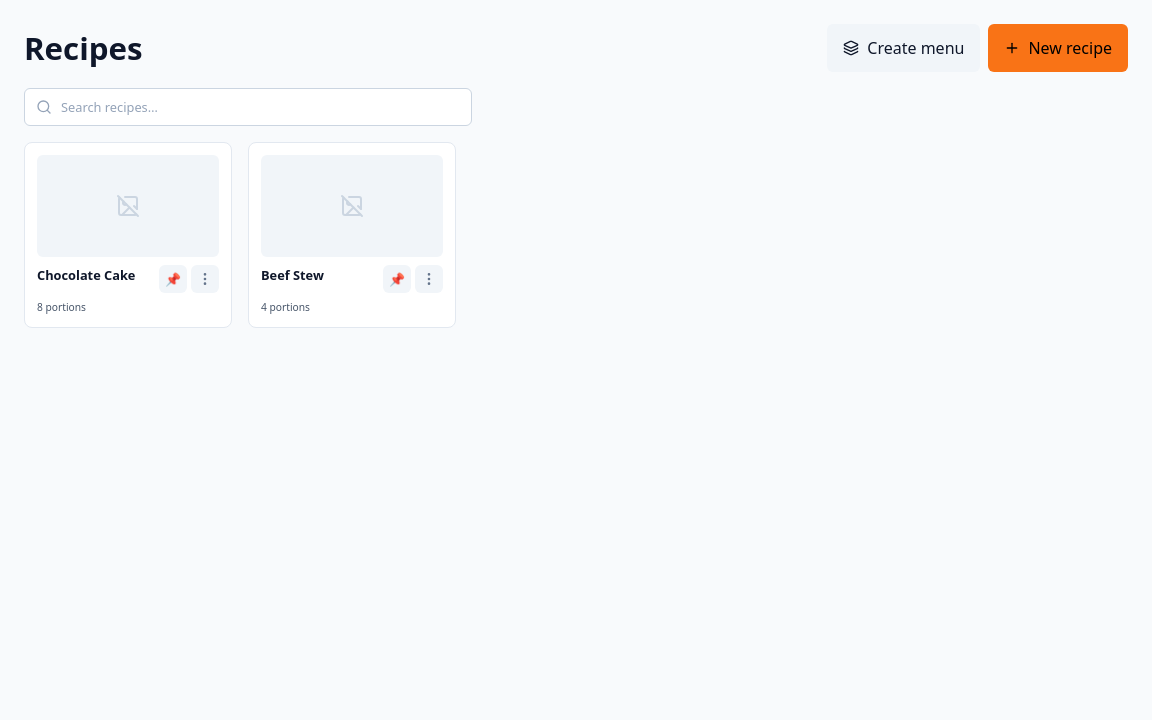
Test: RecipesLibrary › selecting recipes and confirming creates a menu, stays on /recipes, and activates the new menu chip
expect the link "Beef Stew" is shown: met, box x1=261 y1=266 x2=324 y2=284
Click the button with test id "recipes-create-menu-button". click: (904, 48)
box: x1=827 y1=24 x2=980 y2=72
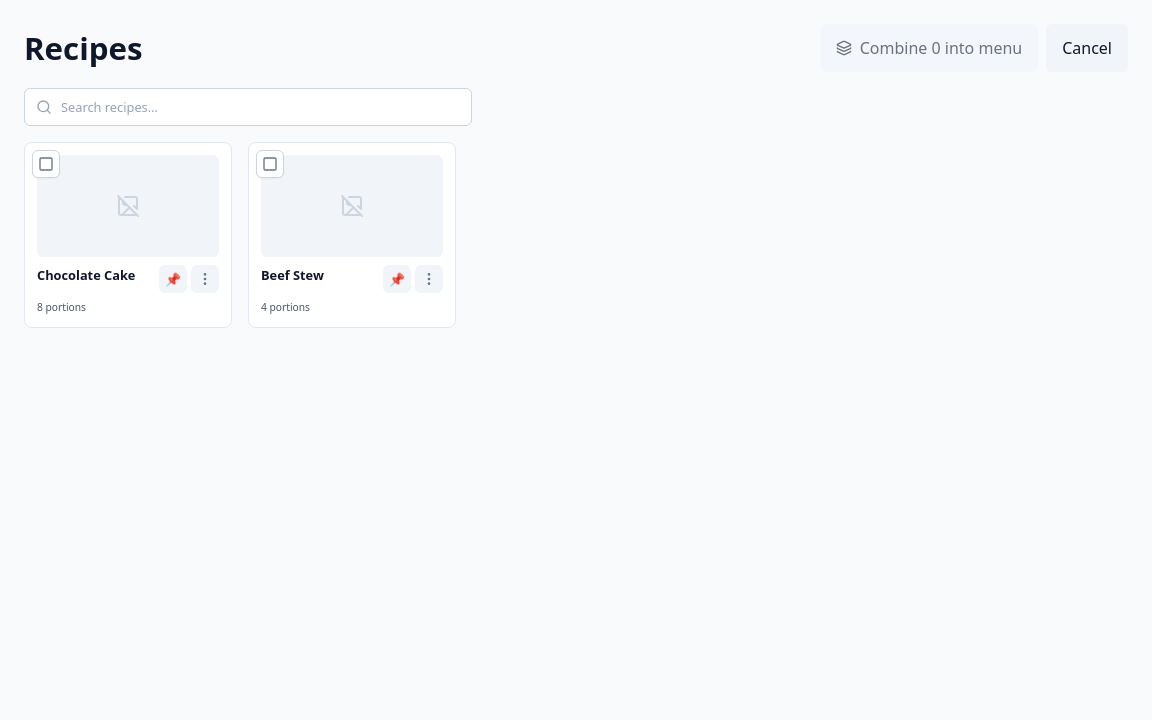
Click the button with test id "recipes-select-checkbox-r_test_001". click: (270, 164)
box: x1=256 y1=150 x2=284 y2=178
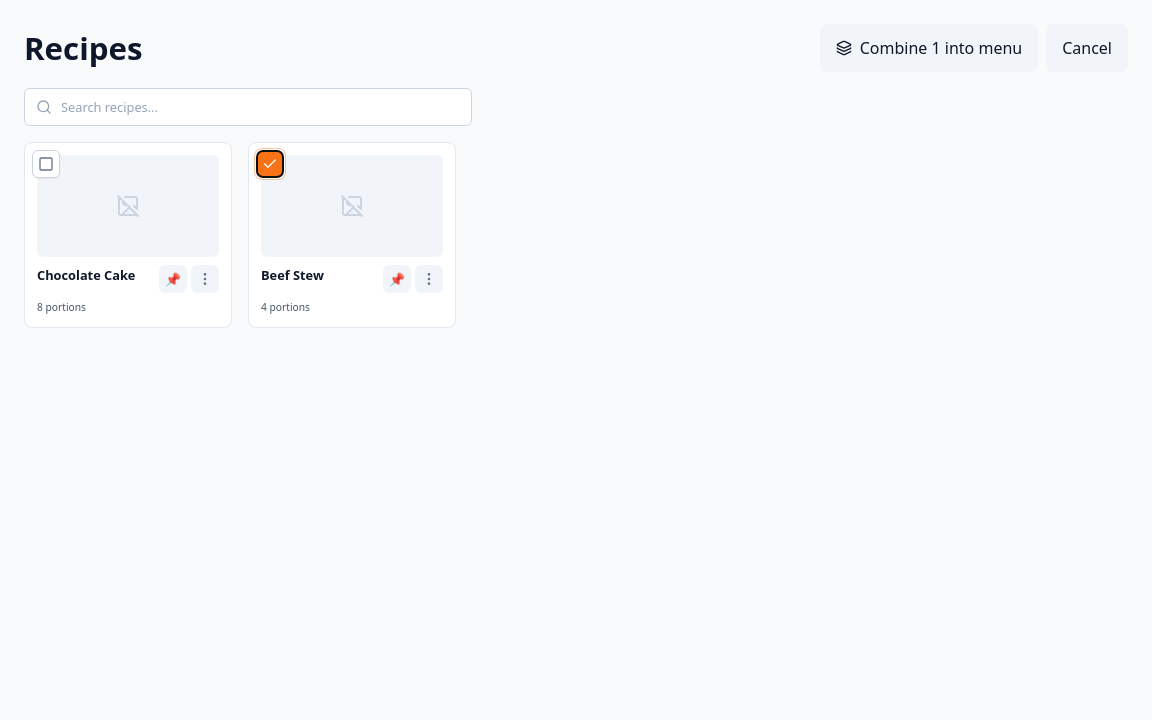
Click the button with test id "recipes-select-checkbox-r_test_002". click: (46, 164)
box: x1=32 y1=150 x2=60 y2=178
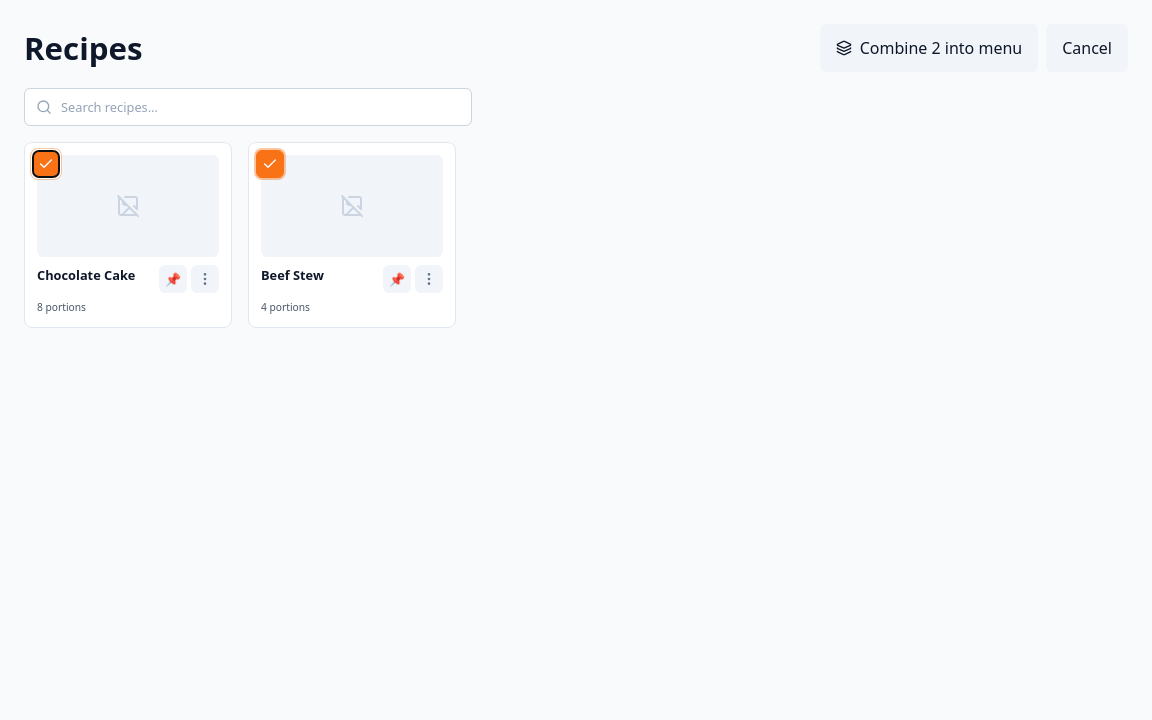
expect the button with test id "recipes-combine-button" is enabled: met
expect the button with test id "recipes-combine-button" reads "Combine 2 into menu": met
Click the button with test id "recipes-combine-button". click: (929, 48)
box: x1=820 y1=24 x2=1038 y2=72
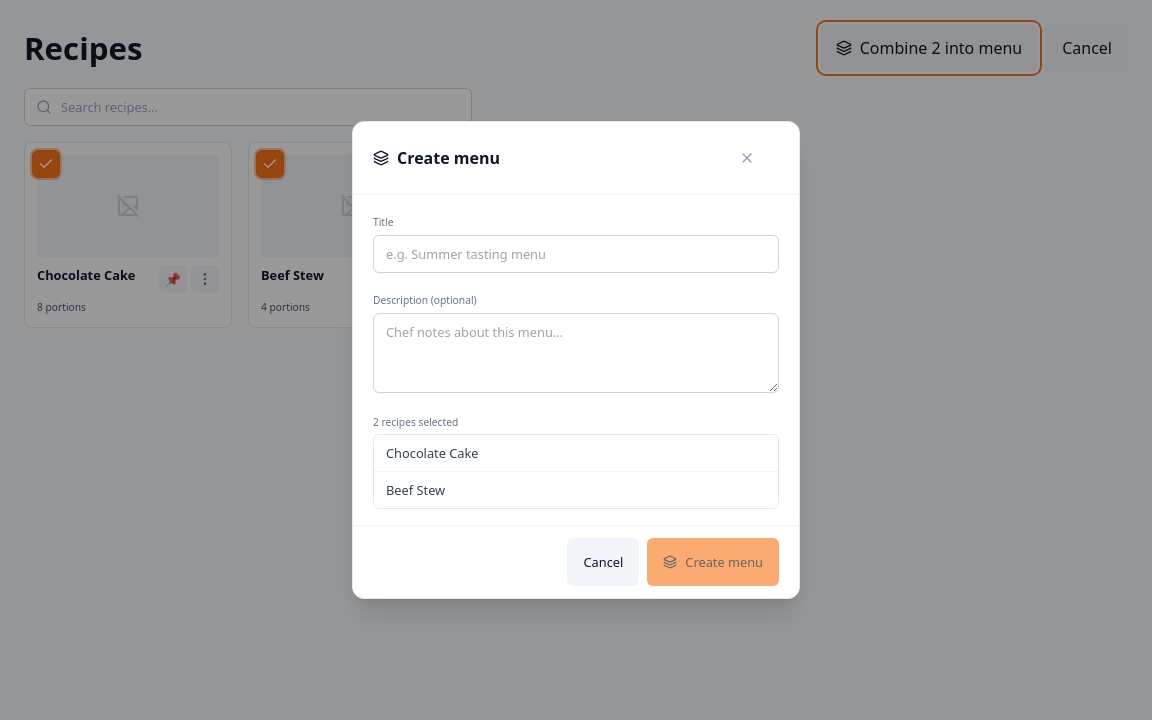
Type "Saturday Service" into the field with test id "create-menu-title-input". click: (576, 254)
box: x1=373 y1=235 x2=779 y2=273
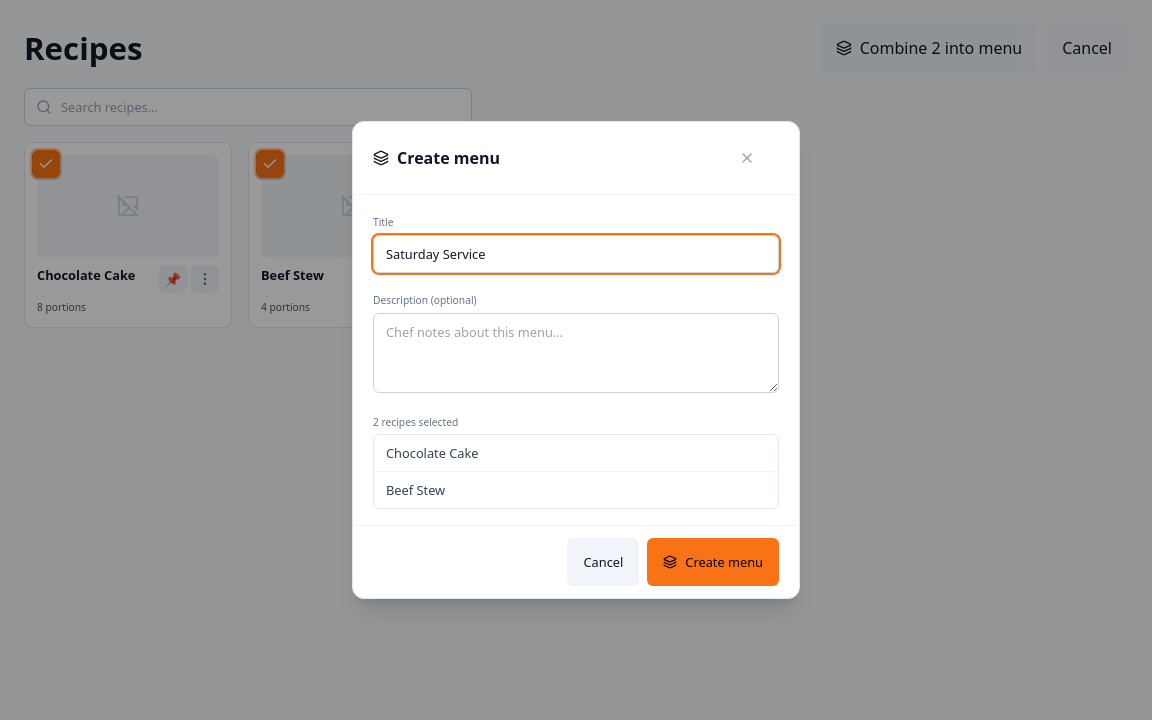
Click the button with test id "create-menu-confirm". click: (713, 562)
box: x1=647 y1=538 x2=779 y2=586
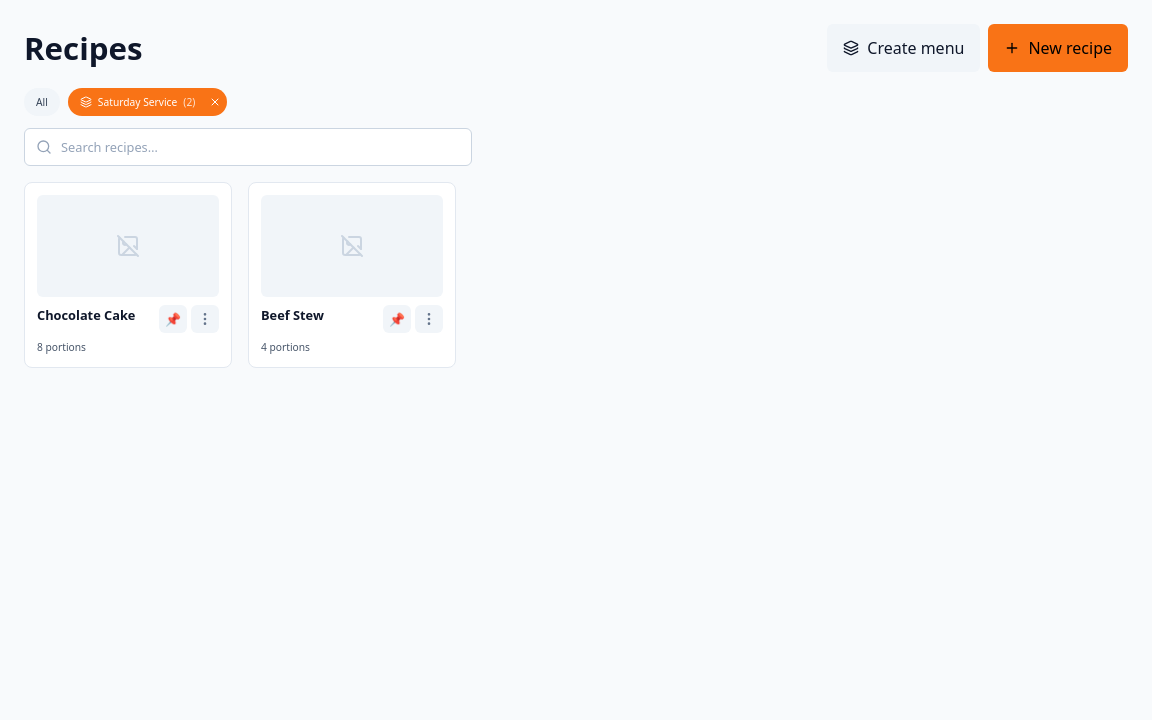
expect the search field with test id "recipes-search-input" is shown: met, box x1=24 y1=128 x2=472 y2=166
expect the text "Saturday Service" is shown: met, box x1=98 y1=94 x2=177 y2=110
